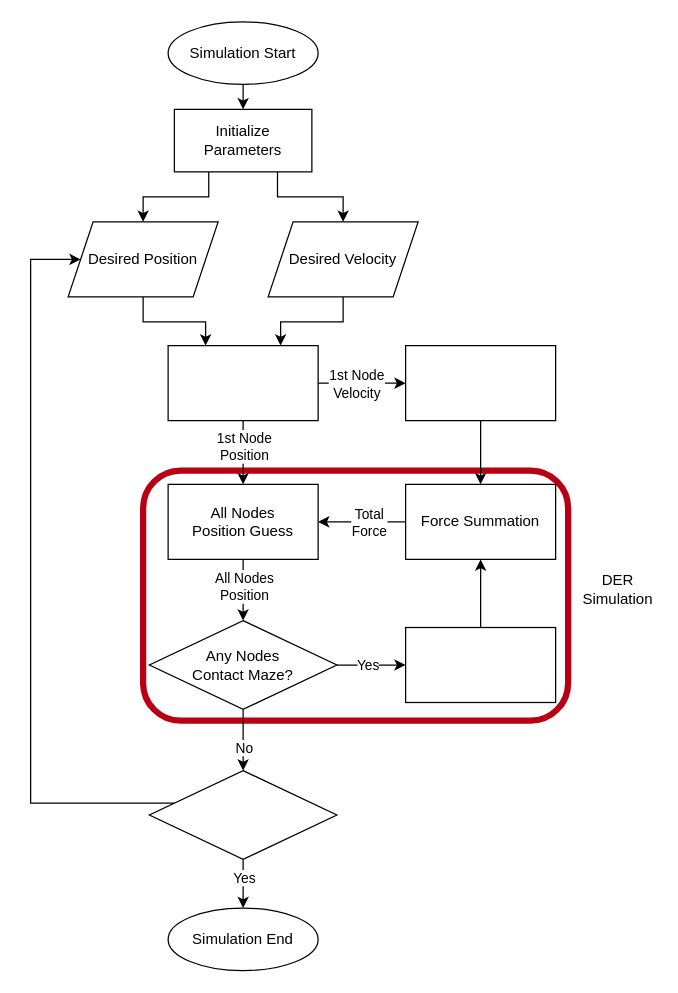
Image size: 678x993. Some labels were removed from this diagram. Here are the shapes that lost their labels. From the top down, the centre of each, then its label:
(x=242, y=382): Decentralized PD Position Controller
(x=480, y=382): Driving Force Computation
(x=480, y=664): Contact Force Computation
(x=242, y=814): Reach Destination?
